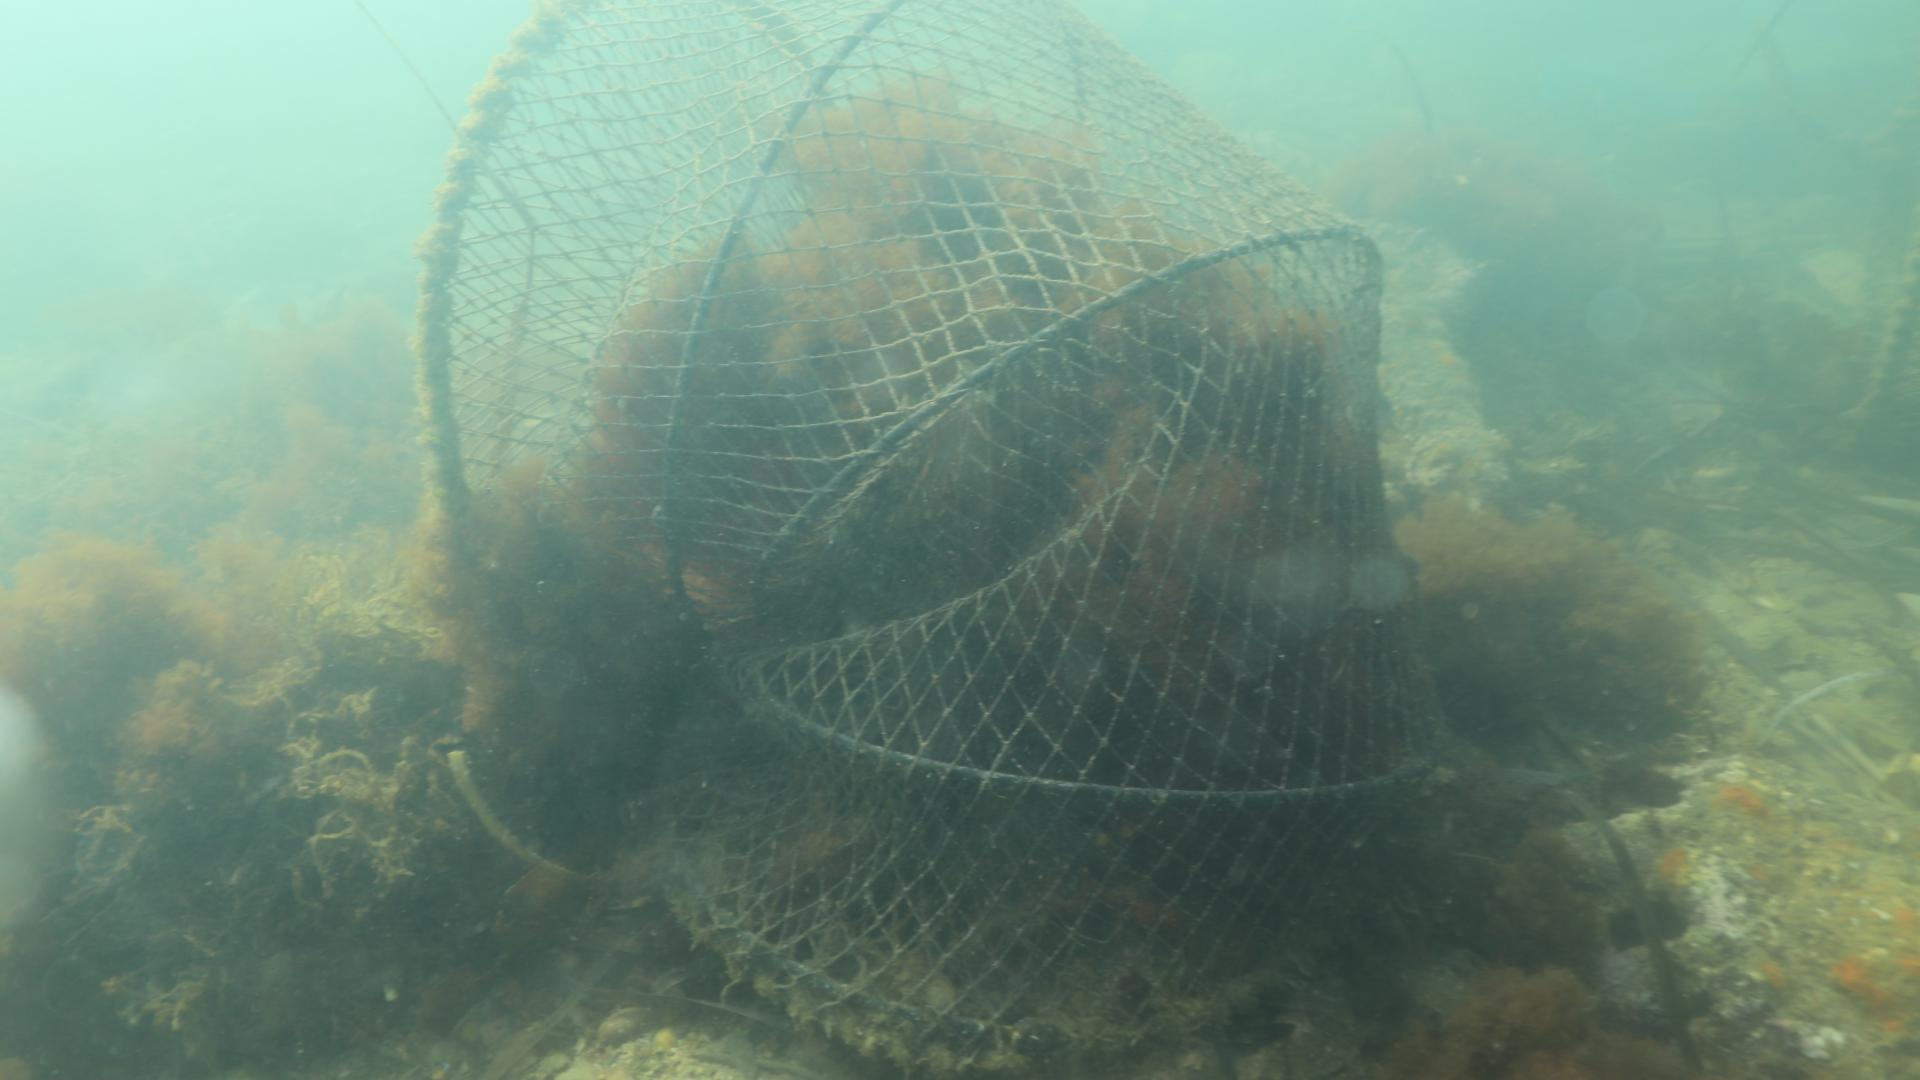spring fish trap: (407, 7, 1455, 1080)
